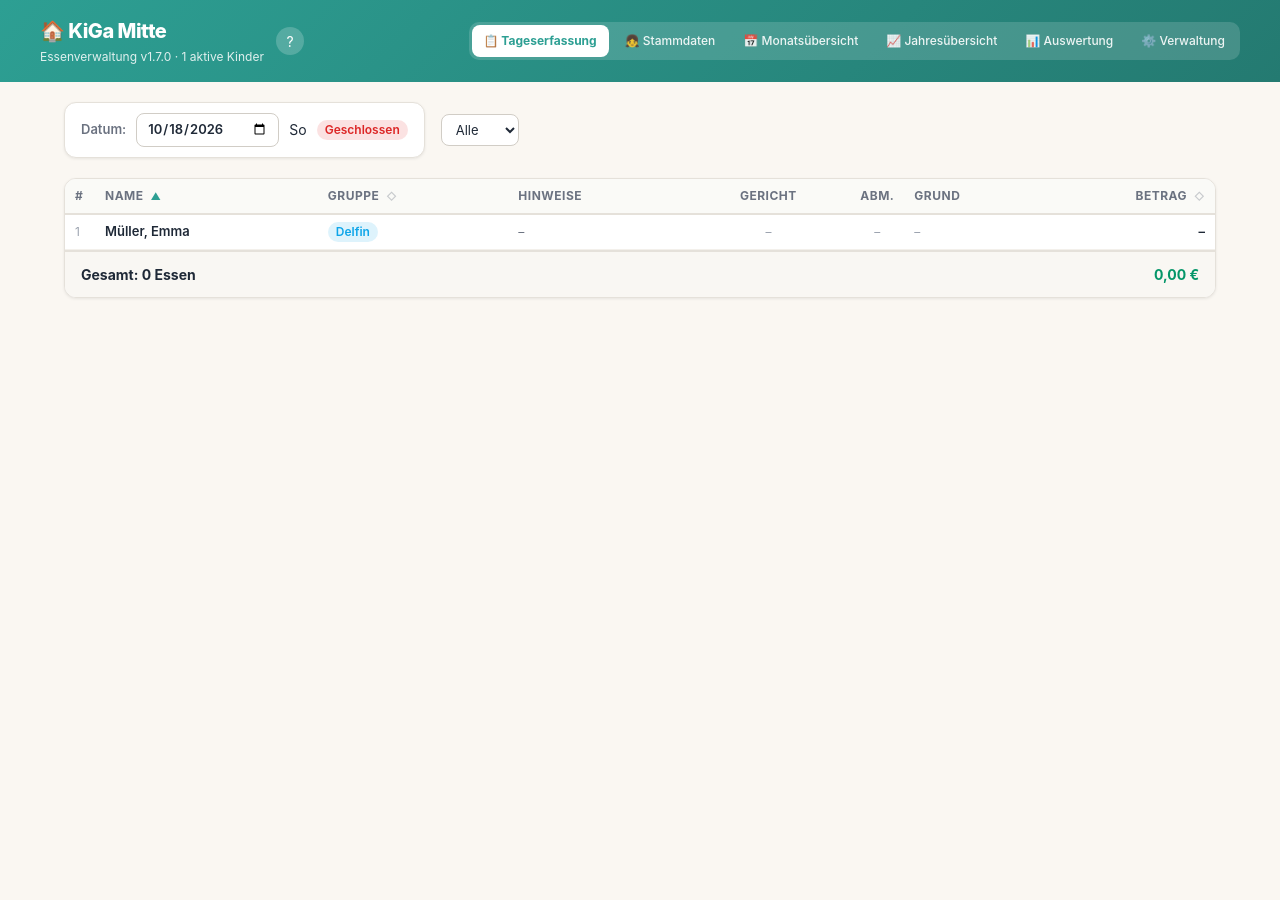
Administration › System-Info zeigt Kinderzahlen
Expected: the text "Müller, Emma" is shown, [95,214,318,249]
What coordinates should you click on to do the following:
click the button "⚙️ Verwaltung"
I would click on:
 (1183, 41)
Its box is [1129,25,1237,57].
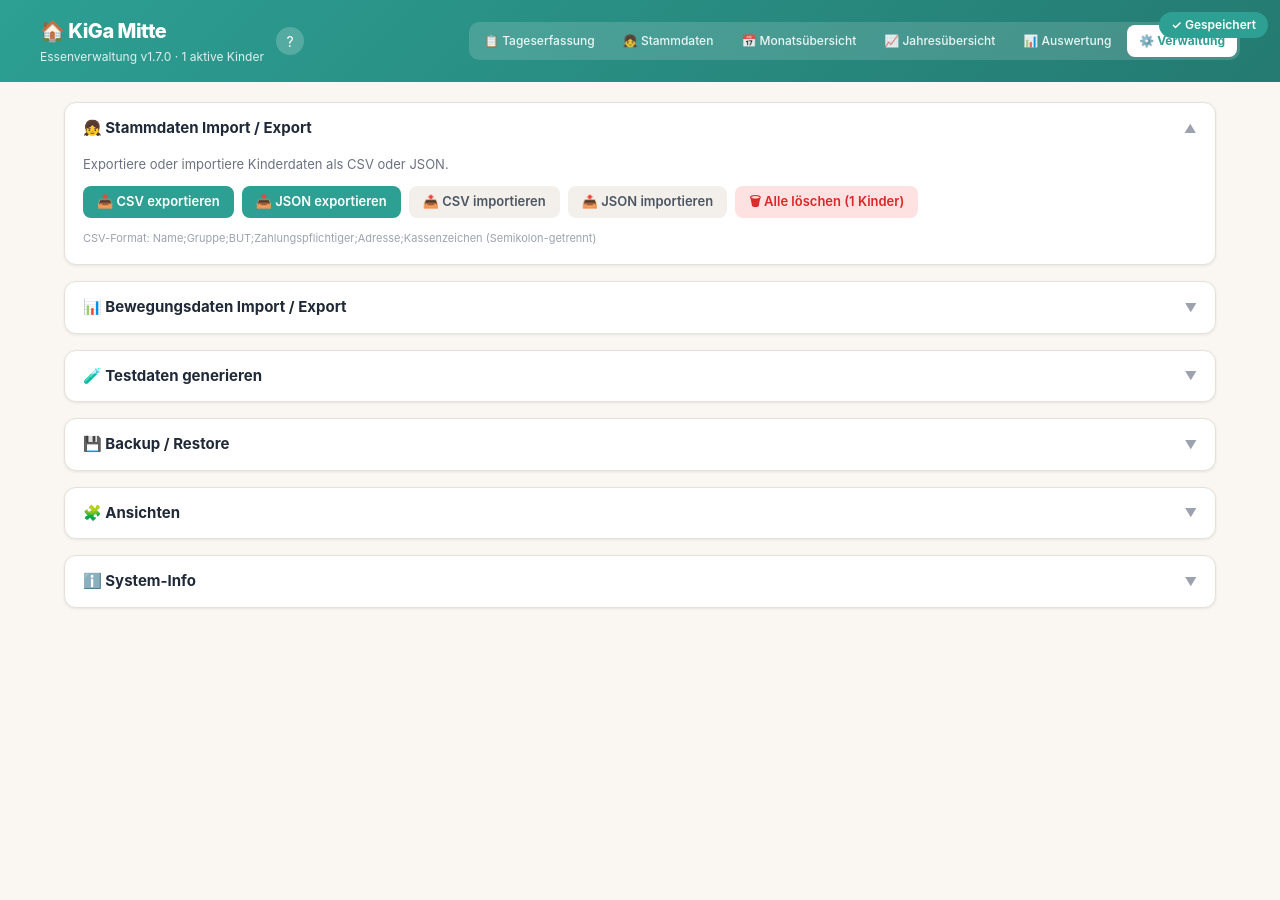
Expected: the text "👧 Stammdaten Import / Export" is shown, [83,117,312,140]
What coordinates should you click on to do the following:
click the text "System-Info"
I would click on:
 (139, 582)
Its box is [83,570,196,593].
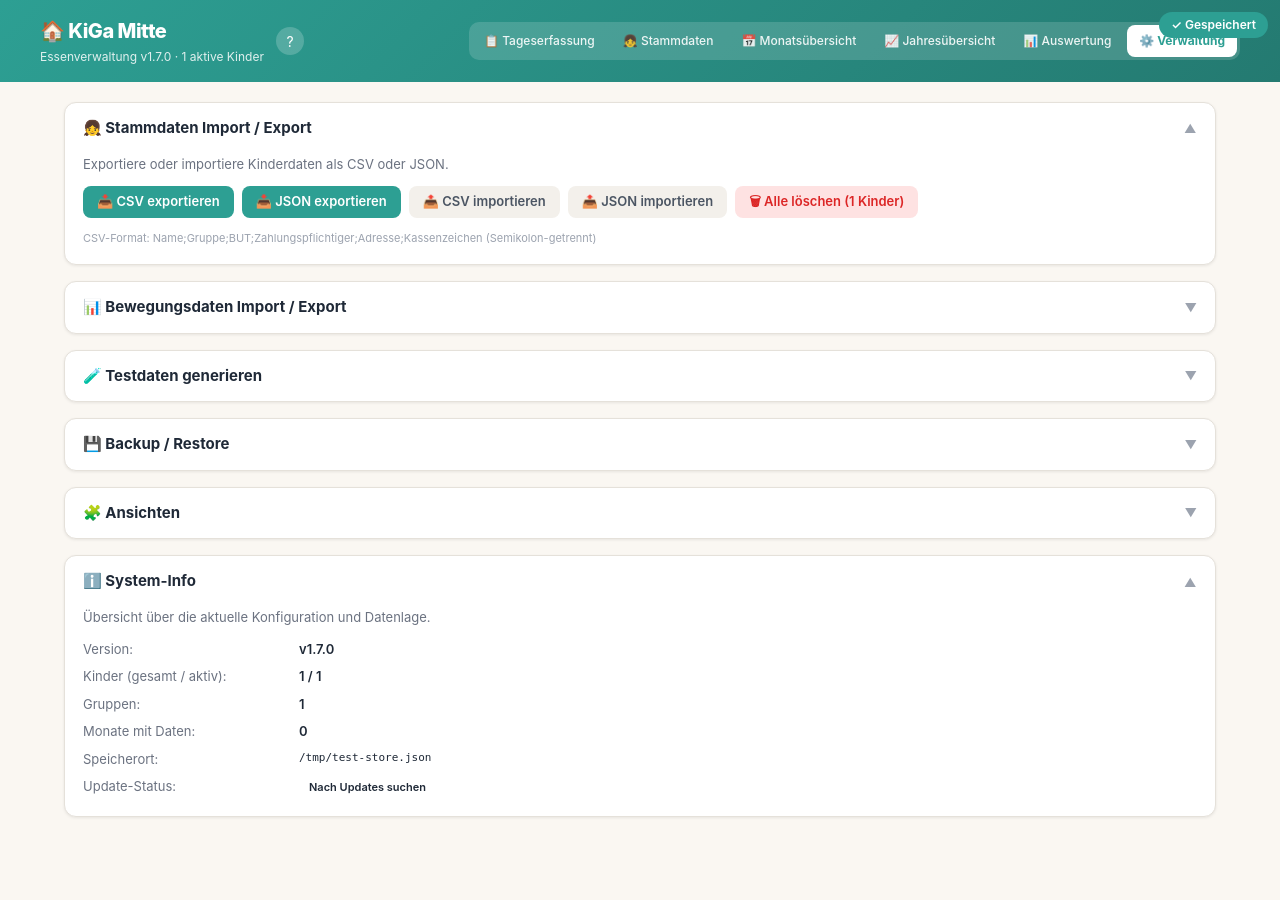
Expected: the text "Kinder (gesamt / aktiv):" is shown, [83,668,226,684]
Expected: the text "1 / 1" is shown, [299,668,322,684]
